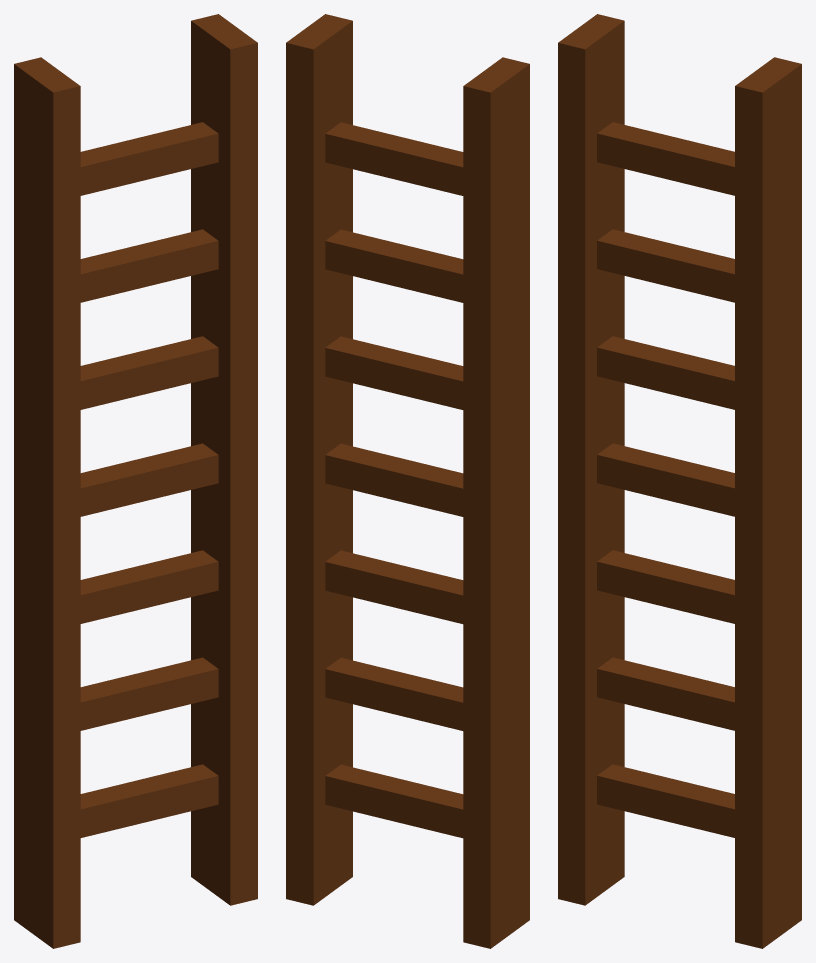
File: ladder2.obj
3 renders of one model, left to right at view 1: azimuth 30°, elevation 25°; view 2: azimuth 150°, elevation 25°; view 3: azimuth 330°, elevation 25°, orthographic.
Parts seen in each view (by area): view 1: Object.1; view 2: Object.1; view 3: Object.1.
Part boxes in pixels (x1,y1,x2,y2): Object.1: [14, 14, 257, 948]; Object.1: [286, 14, 529, 948]; Object.1: [558, 14, 801, 948].
Size of the model in its own units: 0.75 by 3 by 0.2496.
